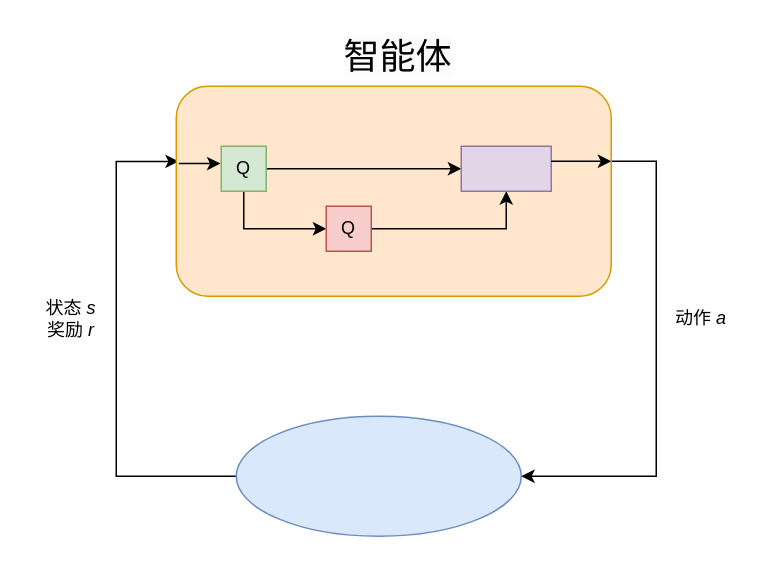
Image size: 771x563. Some labels were removed from this diagram. The shapes that lost their labels are listed below. From the top down, each one's centre as x and y in pixels, then its label:
At [505,168]: "策略".
At [378,475]: "环境".
